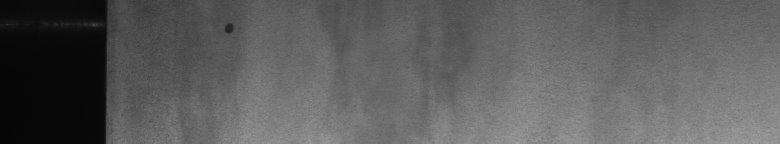fi: (220, 16, 236, 40)
